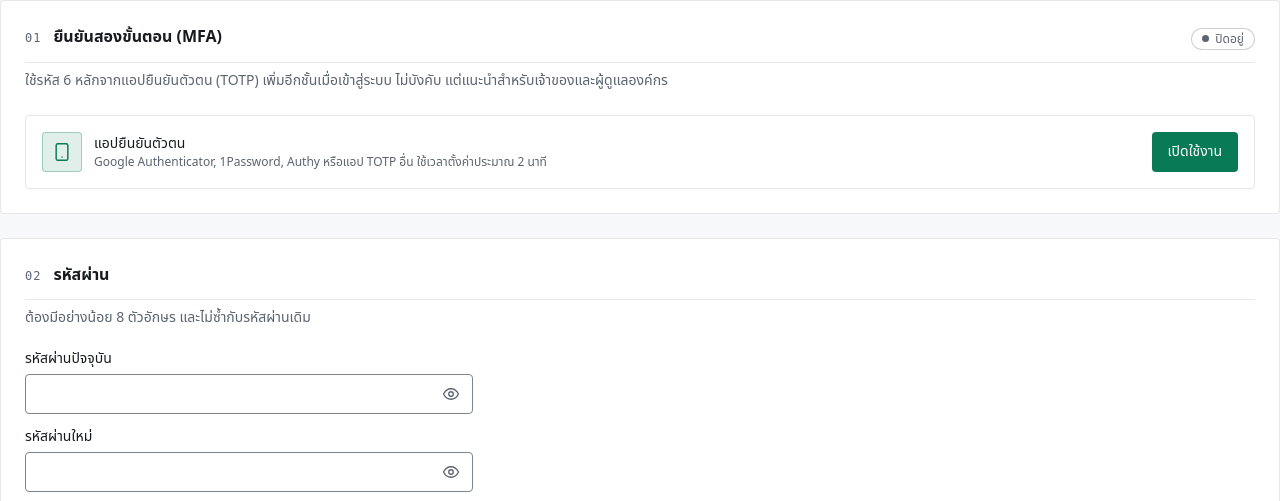
Scenario: SecurityPage enrollment › shows pending enrollment until the first TOTP code is verified
Click the button with test id "mfa-enable-open" at (1195, 152), box x1=1152 y1=132 x2=1238 y2=172
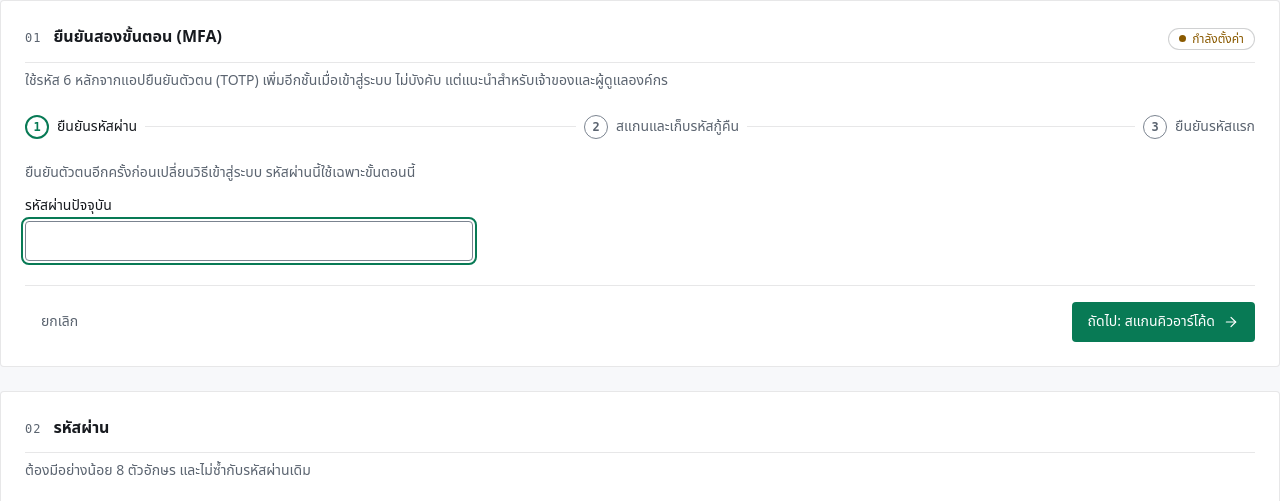
Type "CurrentPassw0rd!" into the password field with test id "mfa-enable-password" at (249, 240), box x1=25 y1=220 x2=473 y2=260
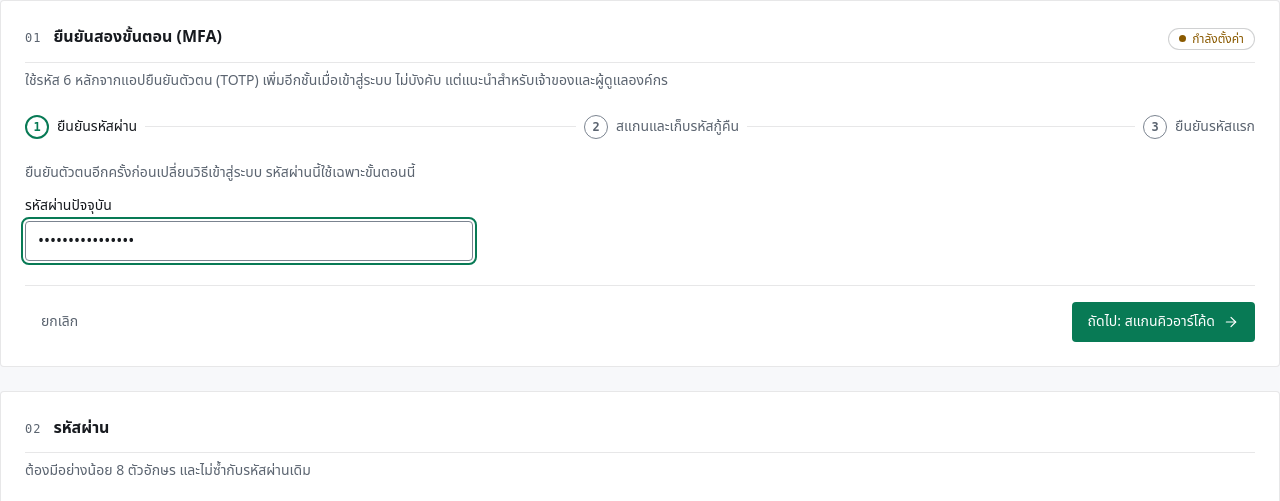
Click the button with test id "mfa-enable-submit" at (1163, 322), box x1=1072 y1=302 x2=1255 y2=342
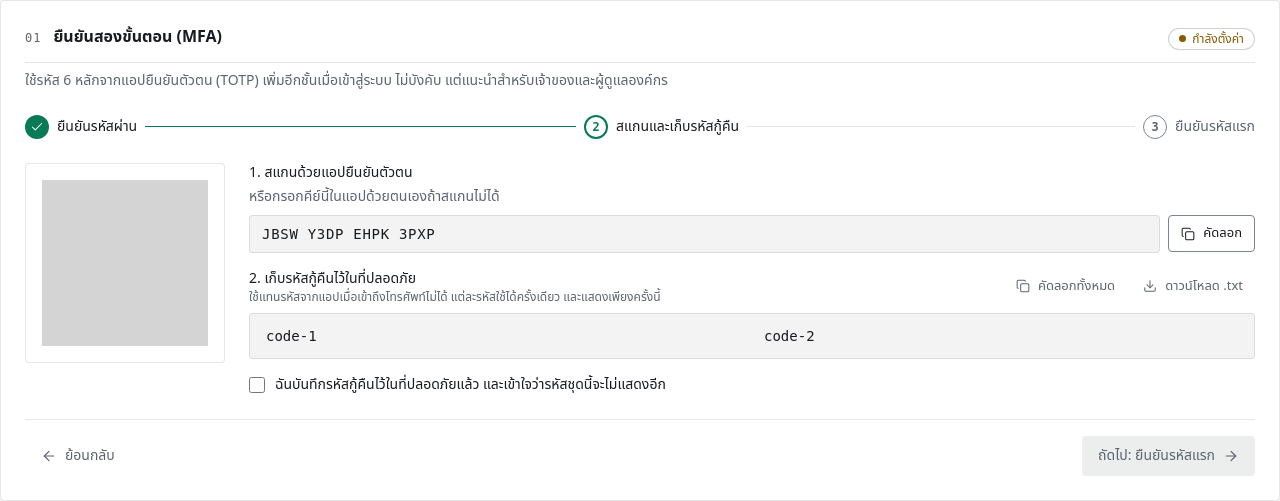
Expected: the list with test id "mfa-recovery-codes" is shown, x1=249 y1=312 x2=1255 y2=358
Click the checkbox with test id "mfa-recovery-acknowledge" at (257, 384), box x1=249 y1=376 x2=265 y2=392
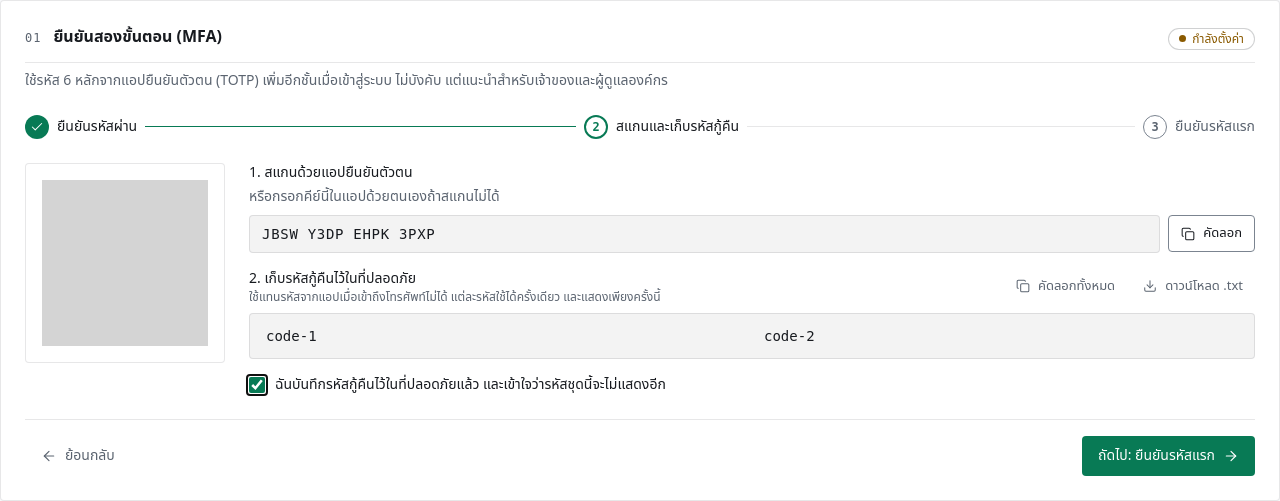
Click the button with test id "mfa-scan-next" at (1169, 456), box x1=1082 y1=436 x2=1255 y2=476
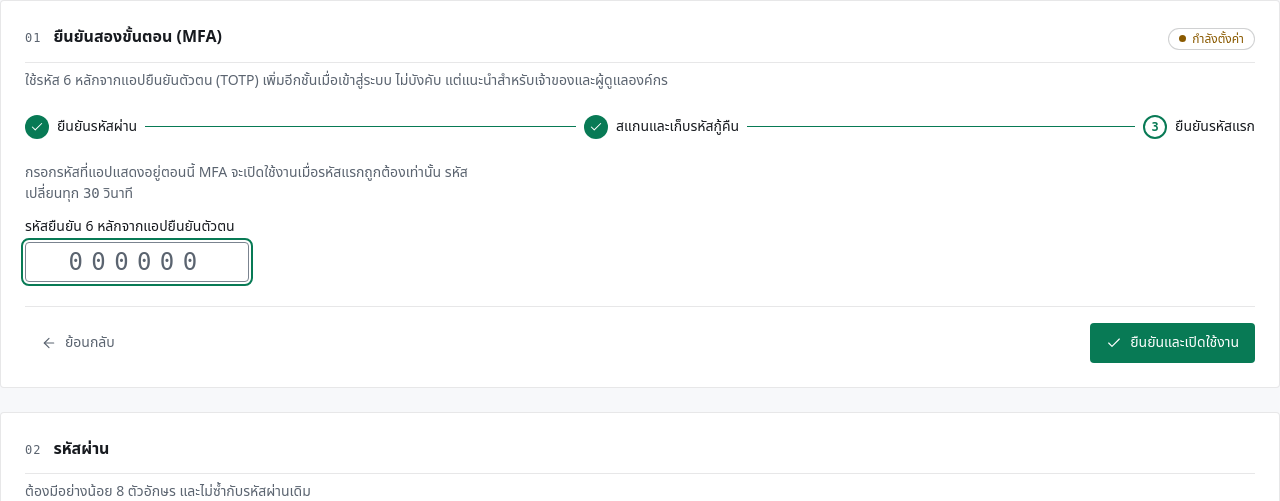
Expected: the element with test id "mfa-status-pending" is shown, x1=1168 y1=28 x2=1255 y2=50
Expected: the field with test id "mfa-verify-code" is shown, x1=25 y1=242 x2=249 y2=282
